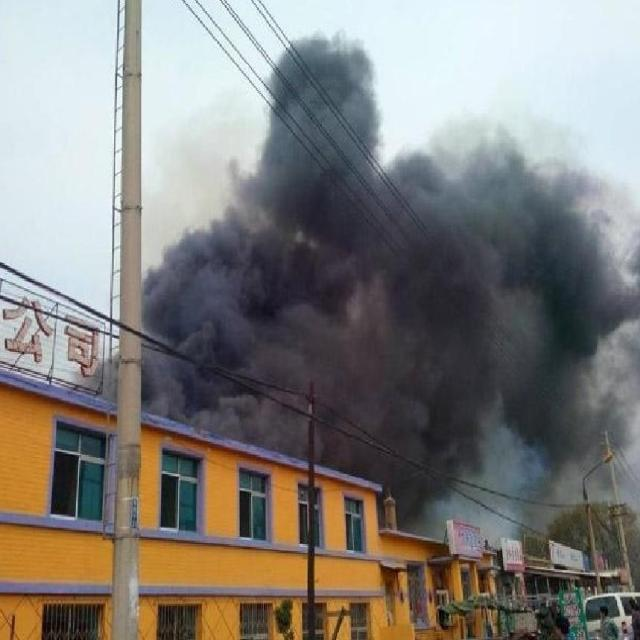Smoke: (141, 28, 640, 549), (73, 356, 119, 402)
